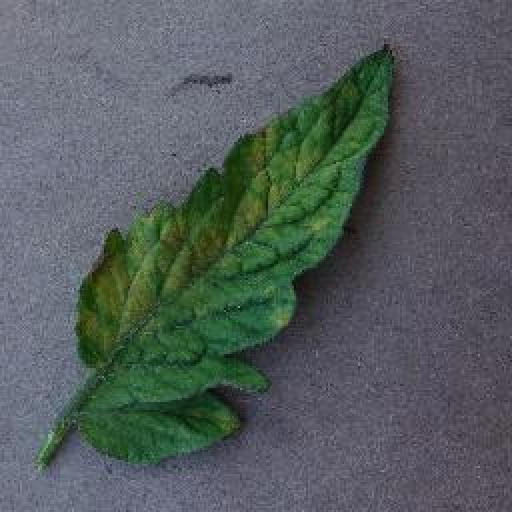disease_tomato: (78, 44, 392, 466)
